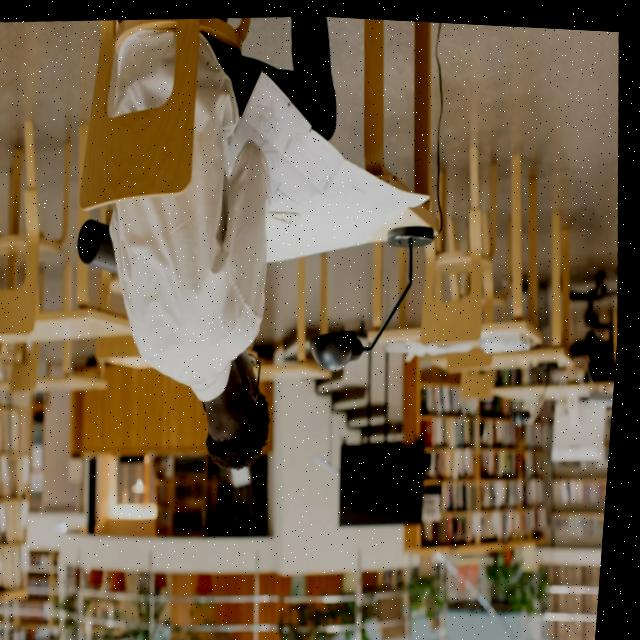studying-person: (55, 3, 482, 499)
